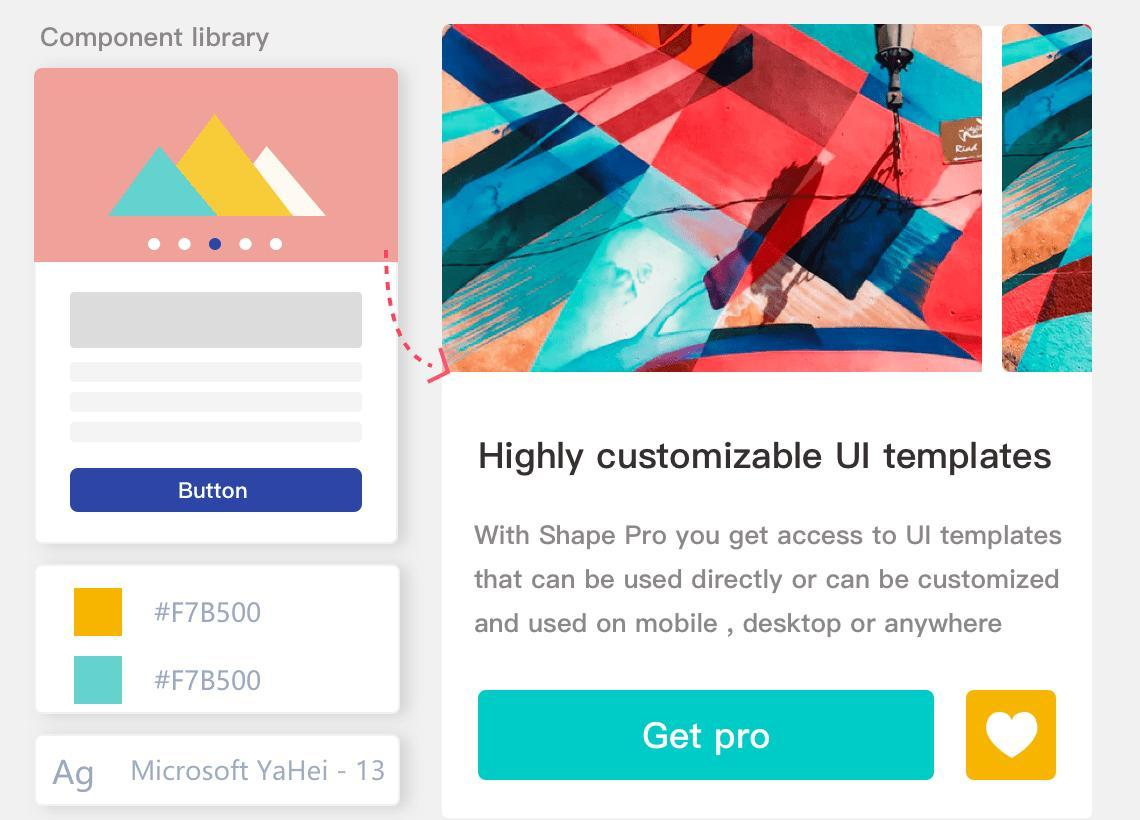button: (475, 687, 937, 780), (69, 468, 367, 516), (964, 684, 1061, 784)
